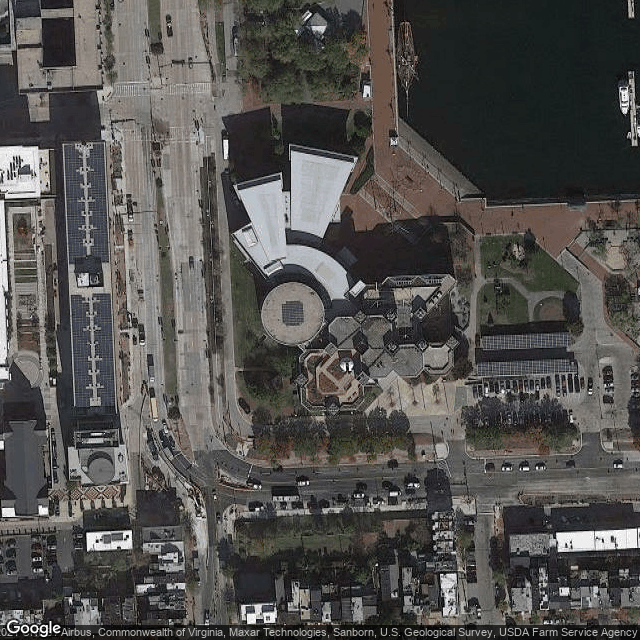carport-fixed: (478, 358, 575, 376), (478, 333, 575, 351)
rooftop-fixed: (70, 293, 118, 405), (64, 141, 109, 258)
